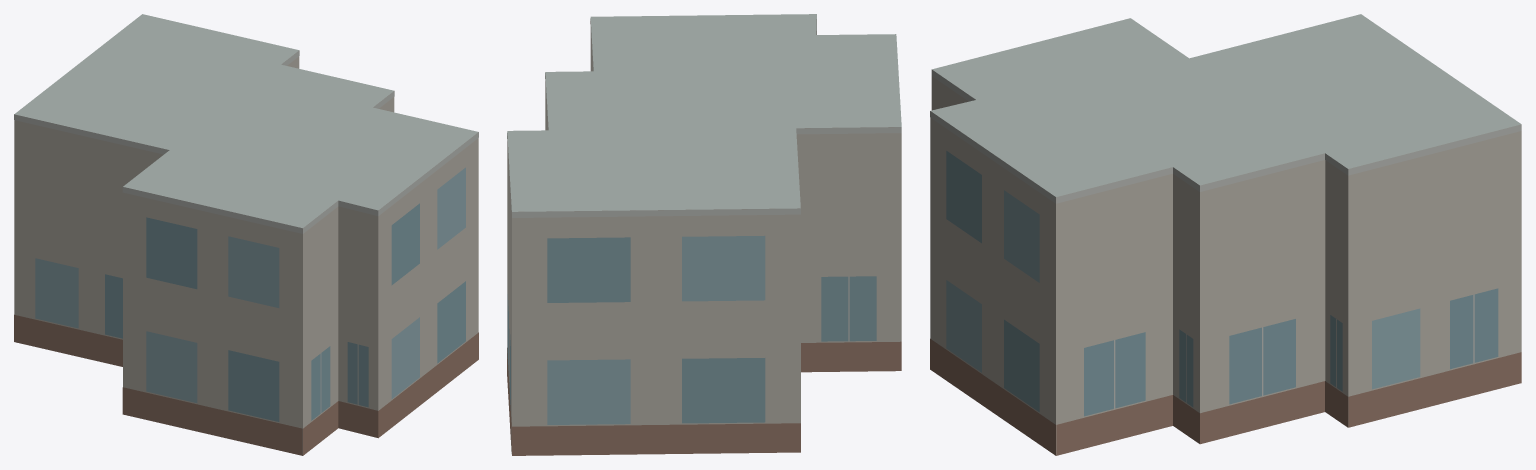
Rendered from survey-upis-32986427.glb.
3 renders of one model, left to right at view 1: azimuth 30°, elevation 25°; view 2: azimuth 150°, elevation 25°; view 3: azimuth 270°, elevation 25°, orthographic. The views are drawn at different scales.
Parts seen in each view (by area): view 1: survey-upis-32986427.tmp; view 2: survey-upis-32986427.tmp; view 3: survey-upis-32986427.tmp.
Boxes of the visible parts, x1=… form: survey-upis-32986427.tmp: x1=14, y1=14, x2=478, y2=455; survey-upis-32986427.tmp: x1=507, y1=14, x2=901, y2=455; survey-upis-32986427.tmp: x1=930, y1=14, x2=1521, y2=455.
Bounding box in the file's own units: 14.56 × 9.58 × 19.86.
